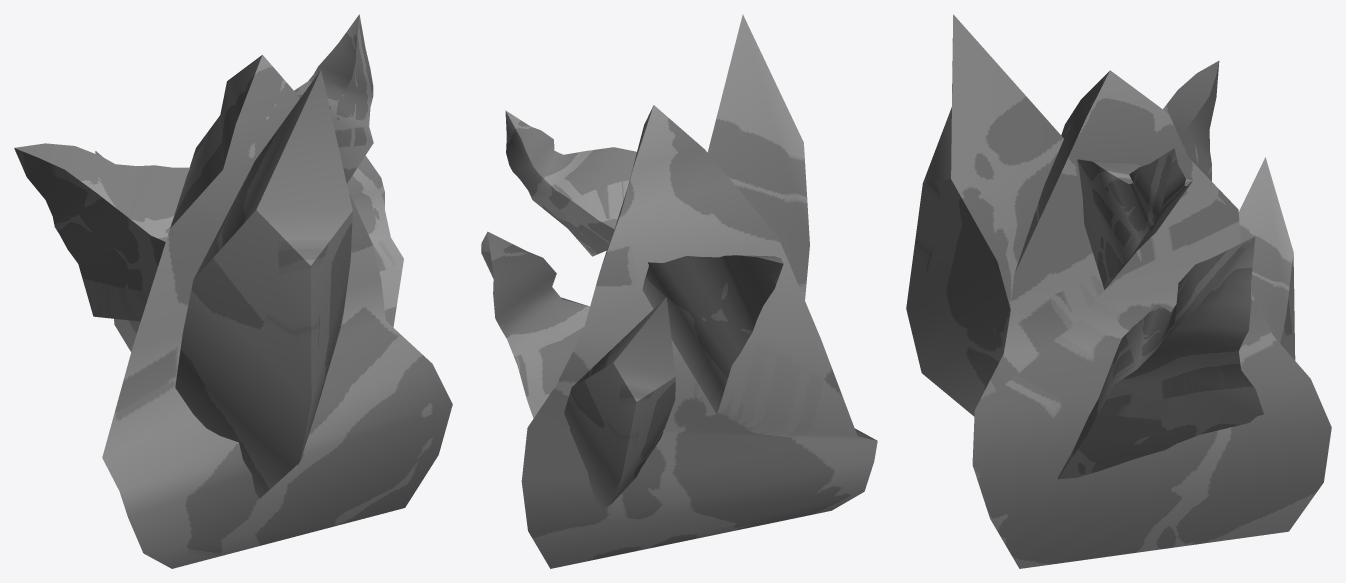
Rendered from CTS_E_PalmDarkRockB.fbx.
3 views of the same model, side by side, from view 1: azimuth 30°, elevation 25°; view 2: azimuth 150°, elevation 25°; view 3: azimuth 270°, elevation 25° (orthographic). The views are drawn at different scales.
Parts seen in each view (by area): view 1: CTS_E_PalmDarkRockB; view 2: CTS_E_PalmDarkRockB; view 3: CTS_E_PalmDarkRockB.
Boxes of the visible parts, bbox=[...] form: CTS_E_PalmDarkRockB: bbox=[14, 14, 452, 568]; CTS_E_PalmDarkRockB: bbox=[481, 14, 877, 568]; CTS_E_PalmDarkRockB: bbox=[906, 14, 1331, 568].
Size of the model in its own units: 1036 by 1409 by 1093.
